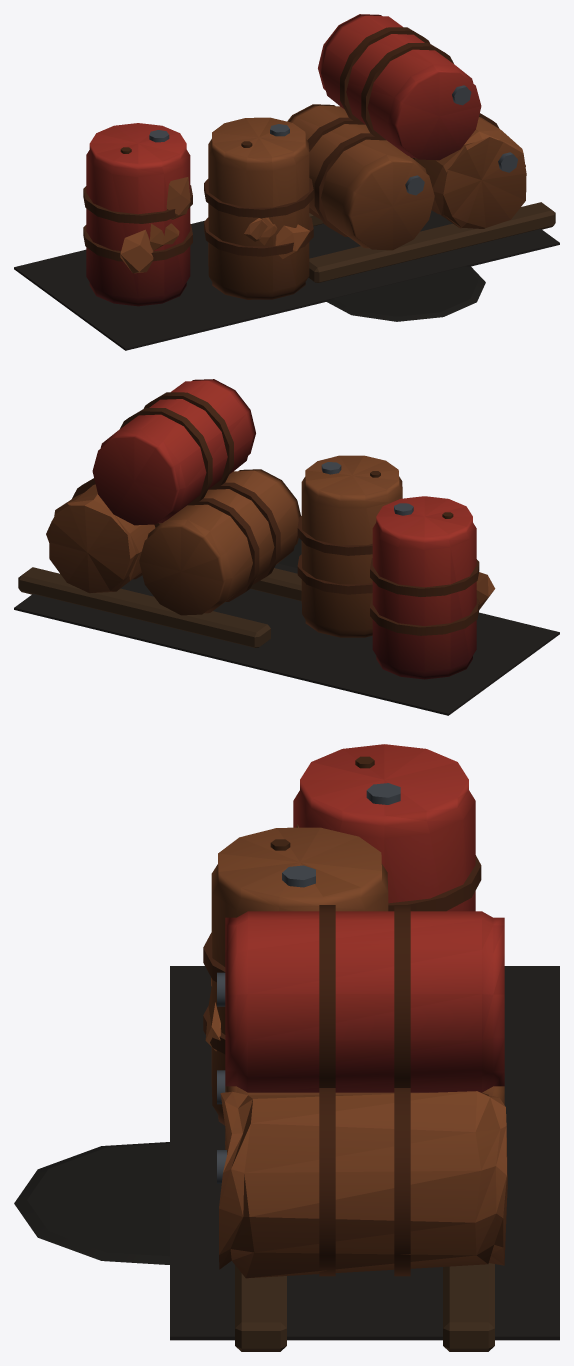
Rendered from oil-drum-stack.glb.
3 renders of one model, top to bottom at view 1: azimuth 30°, elevation 25°; view 2: azimuth 150°, elevation 25°; view 3: azimuth 270°, elevation 25°, orthographic. The views are drawn at different scales.
Parts seen in each view (by area): view 1: oil_drum_stack; view 2: oil_drum_stack; view 3: oil_drum_stack.
Part boxes in pixels (x1=…): oil_drum_stack: x1=14, y1=14, x2=559, y2=350; oil_drum_stack: x1=14, y1=379, x2=559, y2=715; oil_drum_stack: x1=14, y1=744, x2=559, y2=1351.
Bounding box in the file's own units: 2.8 × 1.15 × 1.68.
